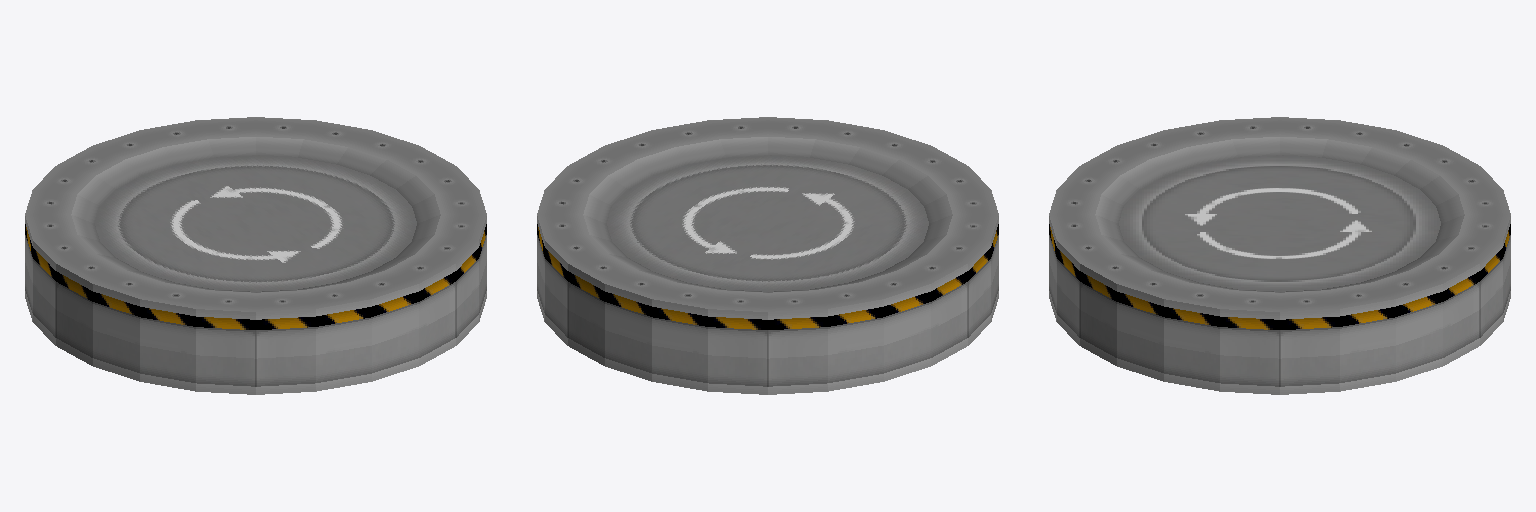
3 views of the same model, side by side, from view 1: azimuth 30°, elevation 25°; view 2: azimuth 150°, elevation 25°; view 3: azimuth 270°, elevation 25° (orthographic).
Visible parts, largest first — view 1: Knight_ReactionWheel_A; view 2: Knight_ReactionWheel_A; view 3: Knight_ReactionWheel_A.
Boxes of the visible parts, x1=… form: Knight_ReactionWheel_A: x1=25, y1=117, x2=486, y2=394; Knight_ReactionWheel_A: x1=537, y1=117, x2=998, y2=394; Knight_ReactionWheel_A: x1=1049, y1=117, x2=1510, y2=394.
Bounding box in the file's own units: 0.9375 × 0.185 × 0.9375.
1 materials, 1 textured.